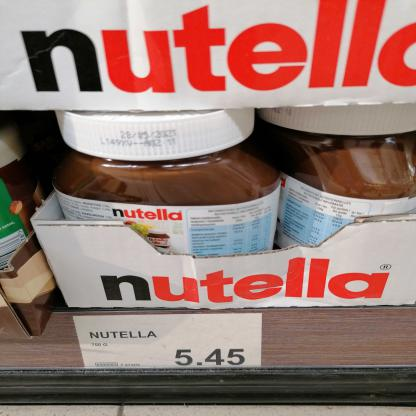prtg: (75, 315, 262, 369)
